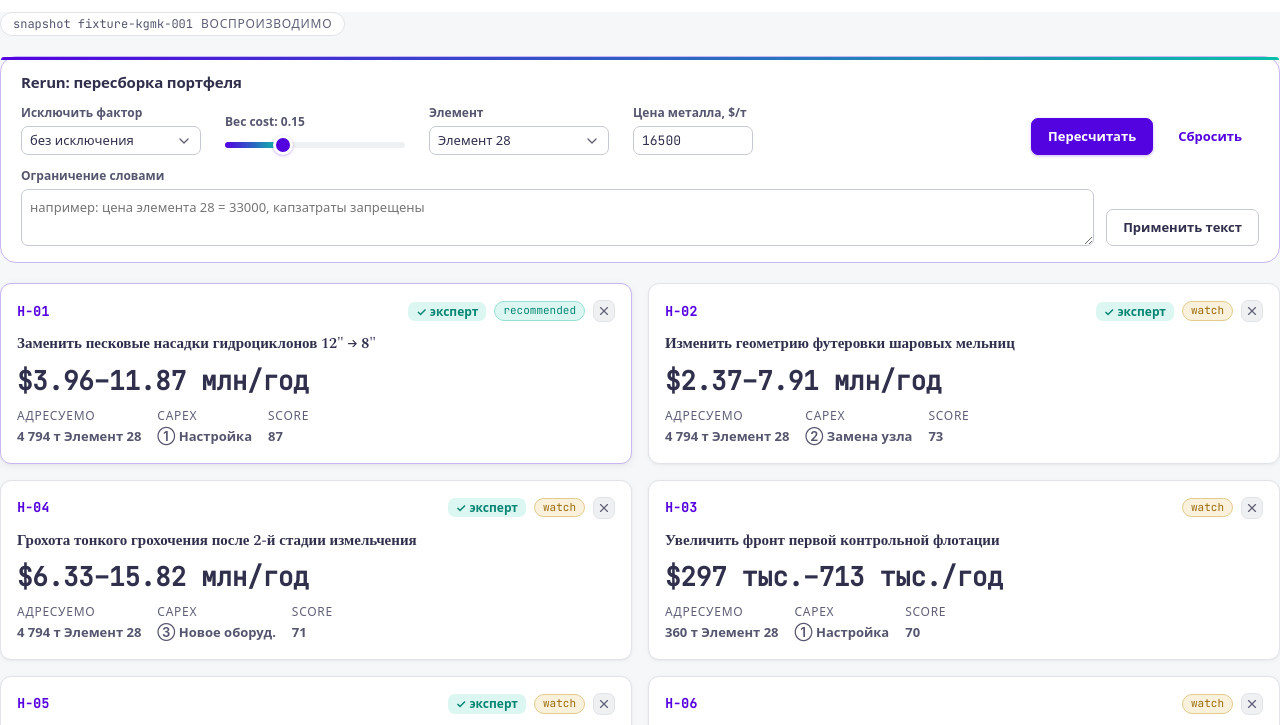
HypothesisBoard › resets the board back to the fixture state
What coordinates should you click on to do the following:
click the dropdown named "Исключить фактор"
I would click on:
 (111, 141)
Its box is [21,126,201,155].
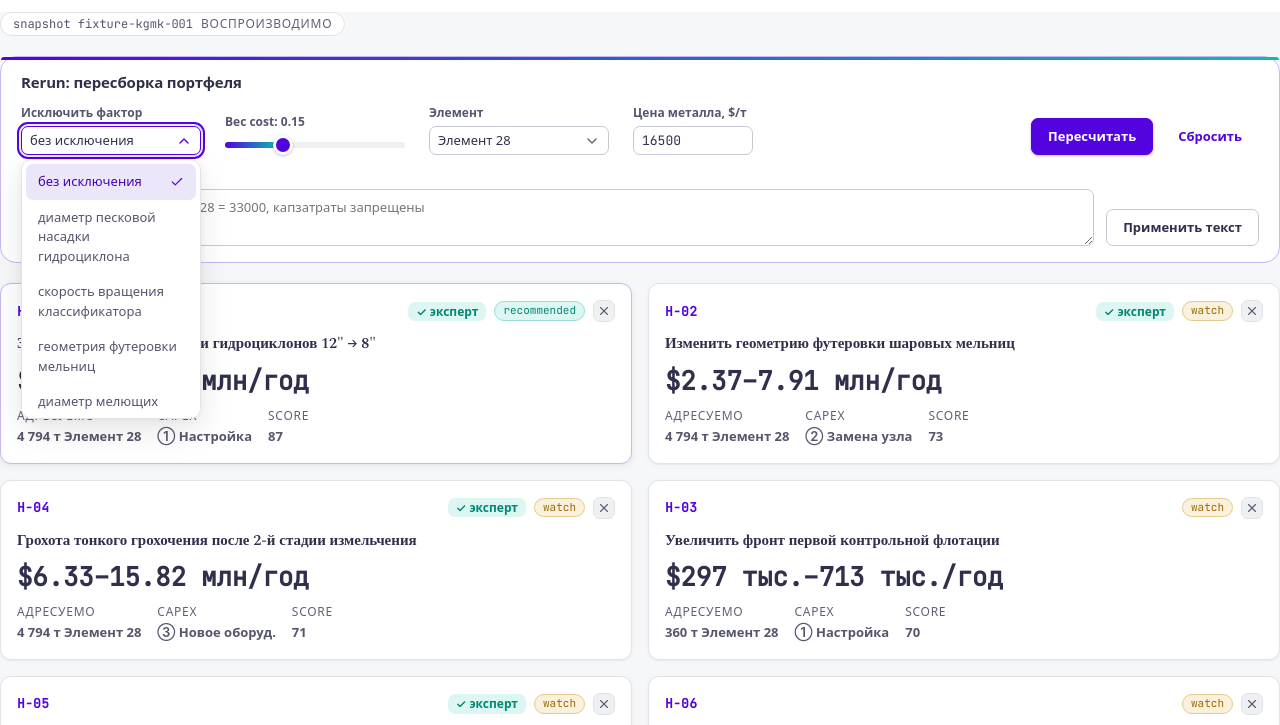
What coordinates should you click on to do the following:
click the option "диаметр песковой насадки гидроциклона"
I would click on:
 (97, 217)
Its box is [38,208,156,265].
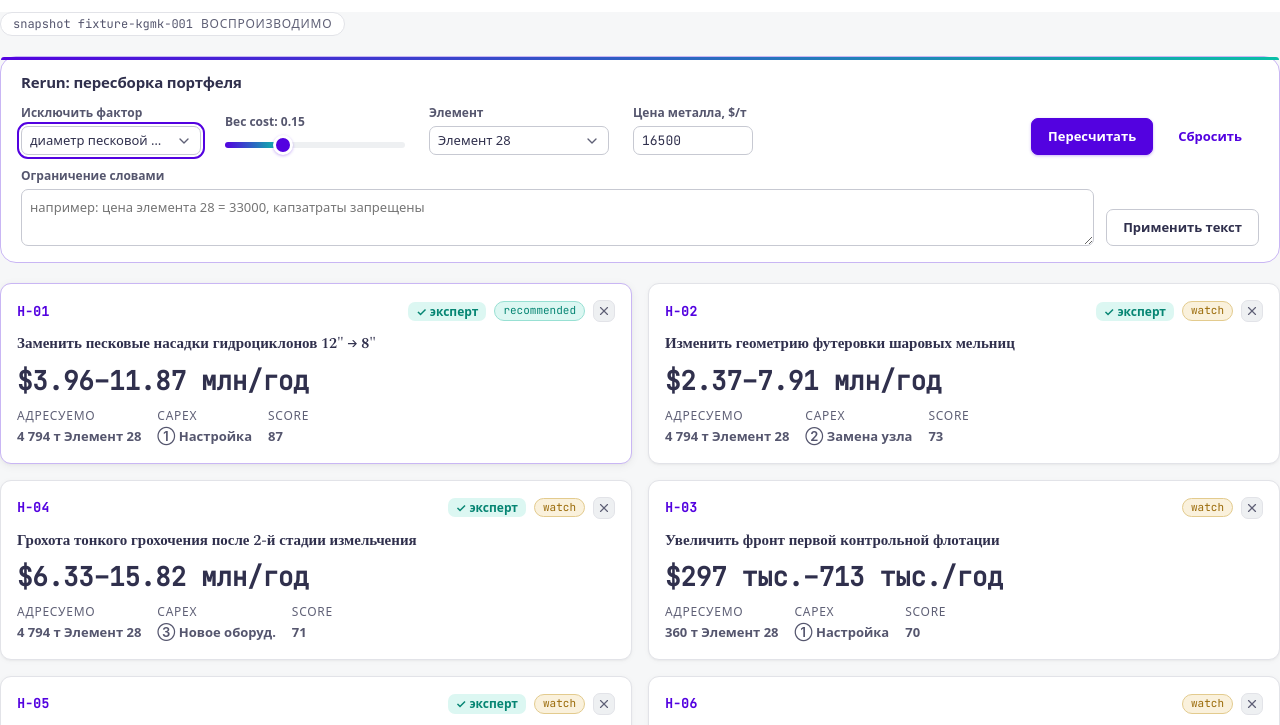
What coordinates should you click on to do the following:
click the button "Пересчитать"
I would click on:
 (1092, 137)
Its box is [1031,118,1153,155].
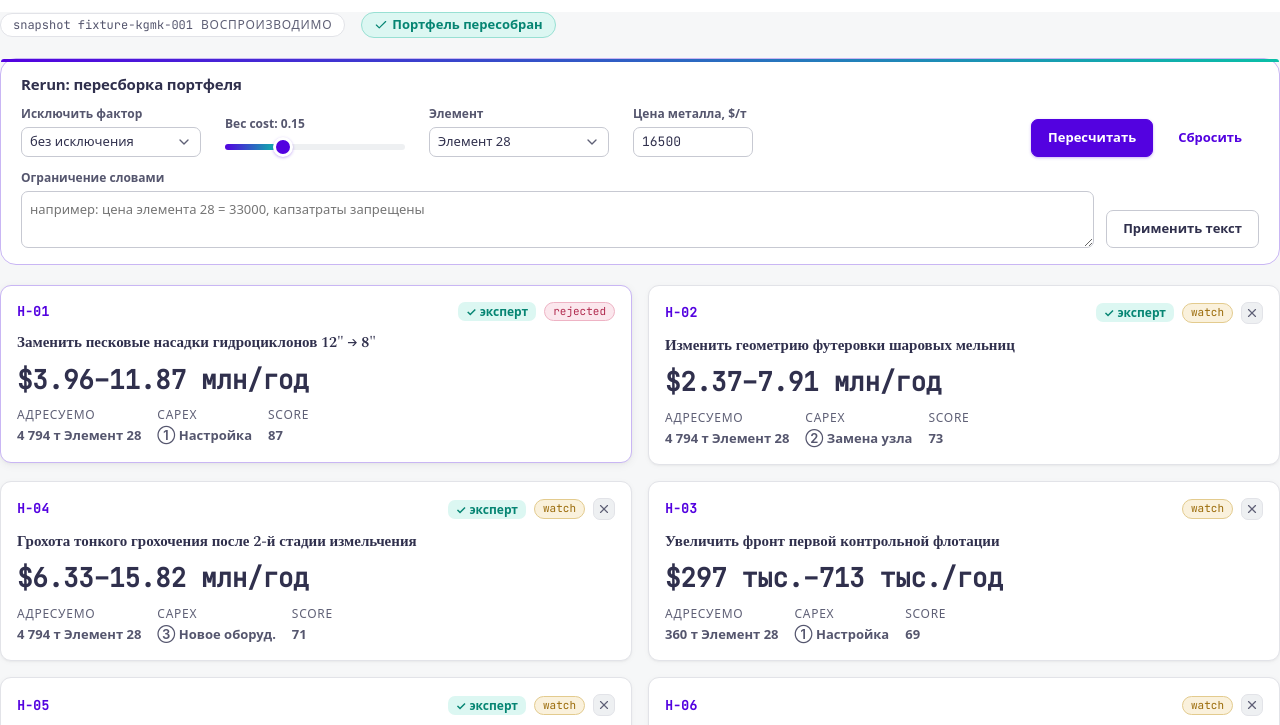
Result: the text "rejected" is shown at [544,302,615,321]
What coordinates should you click on to do the following:
click the button "Сбросить"
I would click on:
 (1210, 138)
Its box is [1161,119,1259,157].
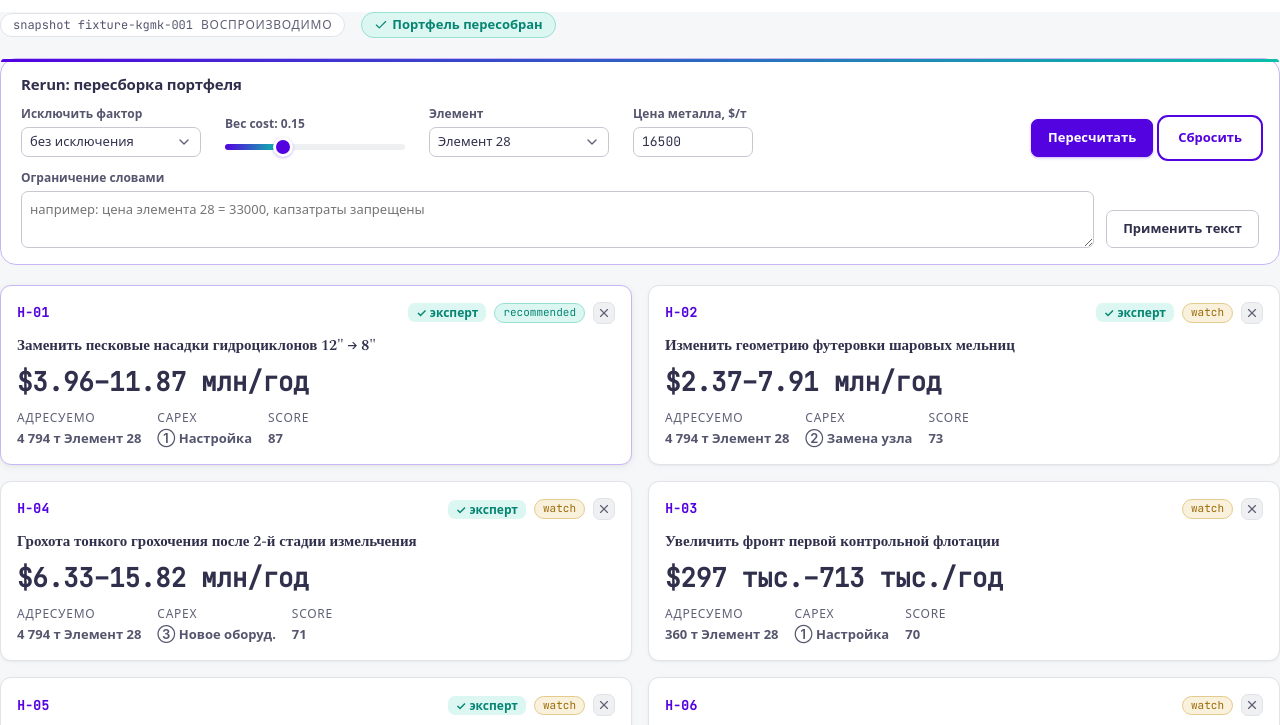
Result: the link "rejected" is gone
